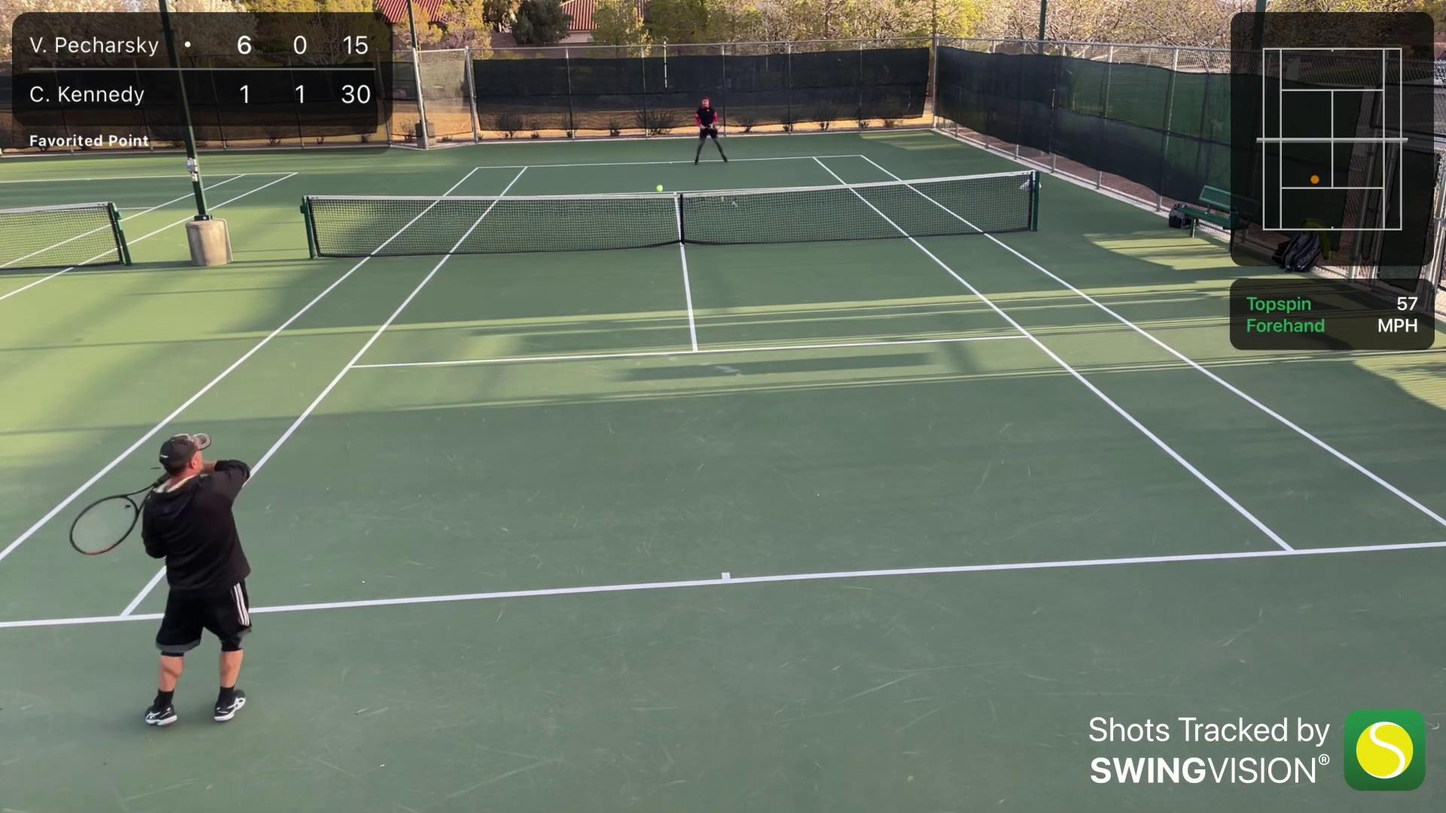ball: (654, 184, 665, 192)
